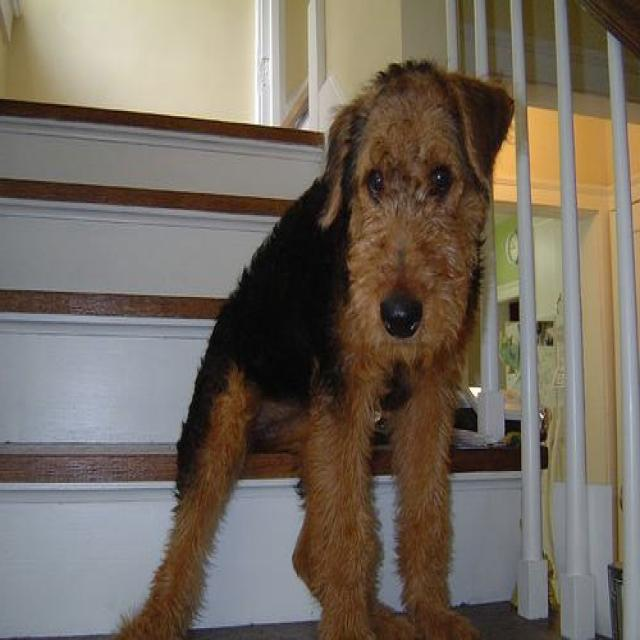airedale: (109, 58, 513, 638)
